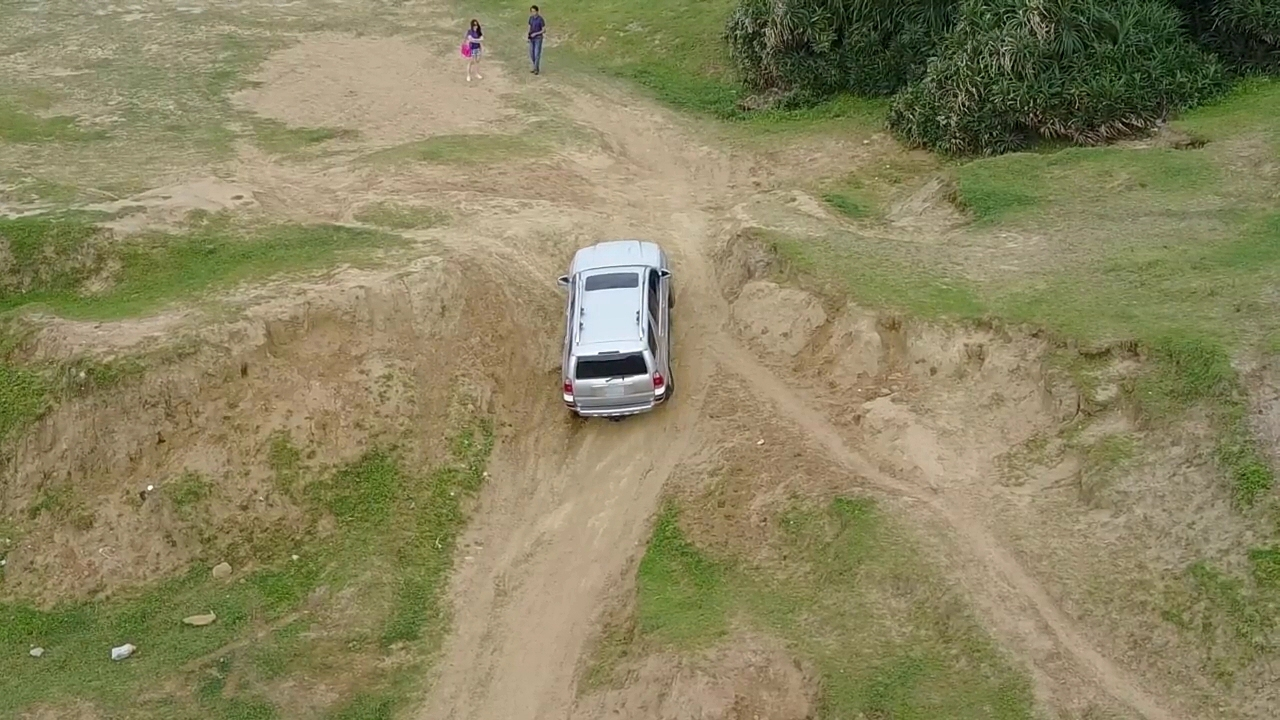araba: (554, 240, 676, 422)
insan: (522, 1, 551, 76), (458, 18, 488, 80)
